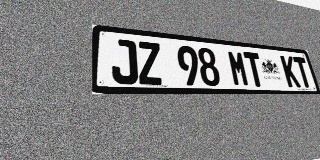8: (196, 47, 221, 86)
9: (176, 45, 202, 86)
J: (111, 38, 139, 84)
K: (280, 55, 301, 87)
M: (227, 50, 250, 86)
T: (243, 52, 266, 87), (293, 56, 313, 88)
Z: (137, 41, 163, 85)
